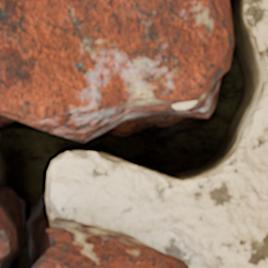brick: (0, 0, 232, 129)
broken_brick: (34, 217, 190, 267), (0, 230, 7, 256)
crack: (0, 0, 266, 267)
